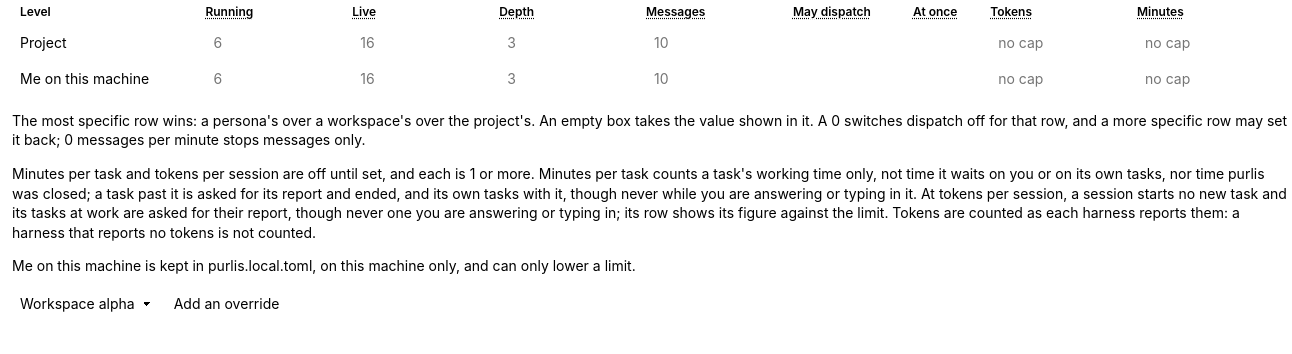
Test: Settings › Project › Dispatch › offers no Undo for a change the core refused
This screenshot has width=1292, height=354.
Type "9" into the field named "Depth for the project" at (549, 43), box left=499, top=29, right=598, bottom=57
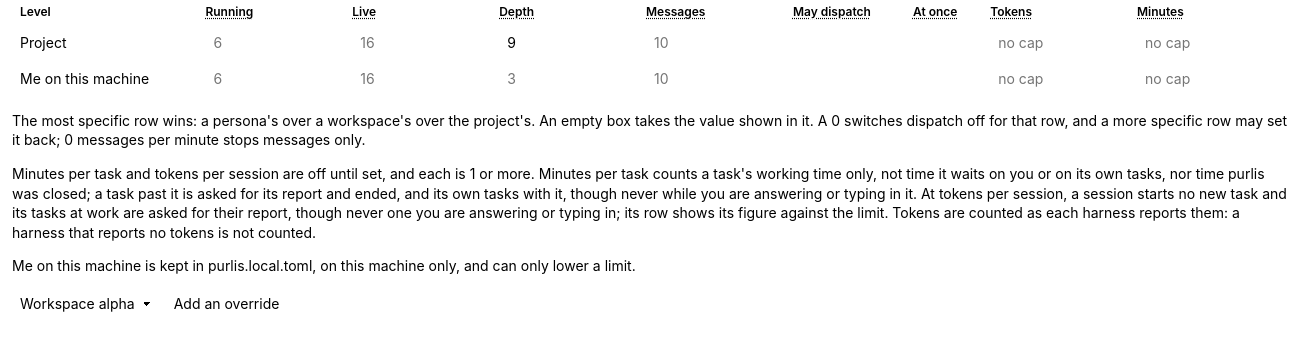
Leave the field named "Depth for the project", box left=499, top=29, right=598, bottom=57
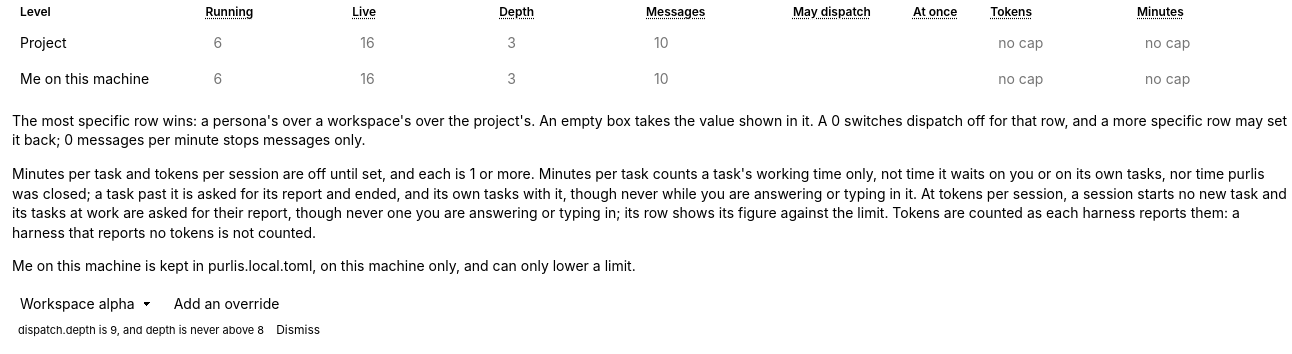
Expected: the text "dispatch.depth is 9, and depth is never above 8" is shown, left=18, top=323, right=264, bottom=337
